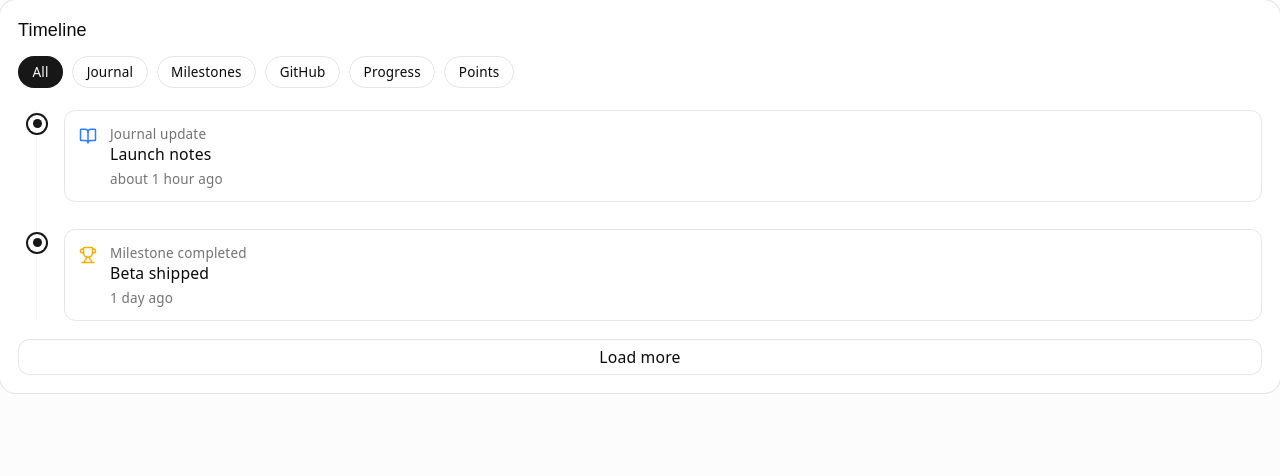
TimelineTab › filters by event family and loads more timeline events
Expected: the text "Launch notes" is shown, [110,143,212,165]
Click the button "Milestones" at (206, 72), box [157,56,256,88]
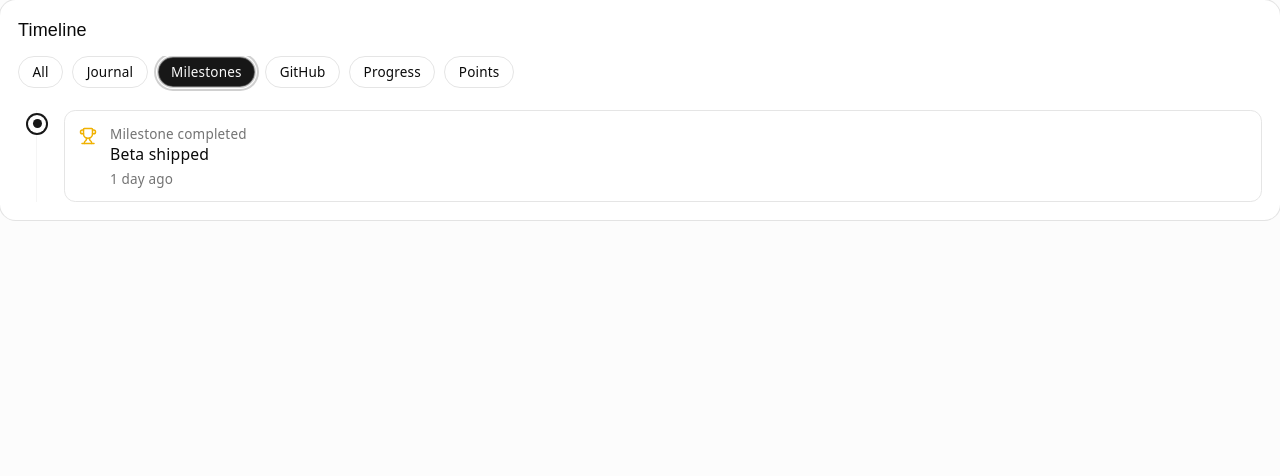
Expected: the text "Beta shipped" is shown, [110,143,209,165]
Now the text "Launch notes" is gone
Click the button "All" at (41, 72), box [18,56,63,88]
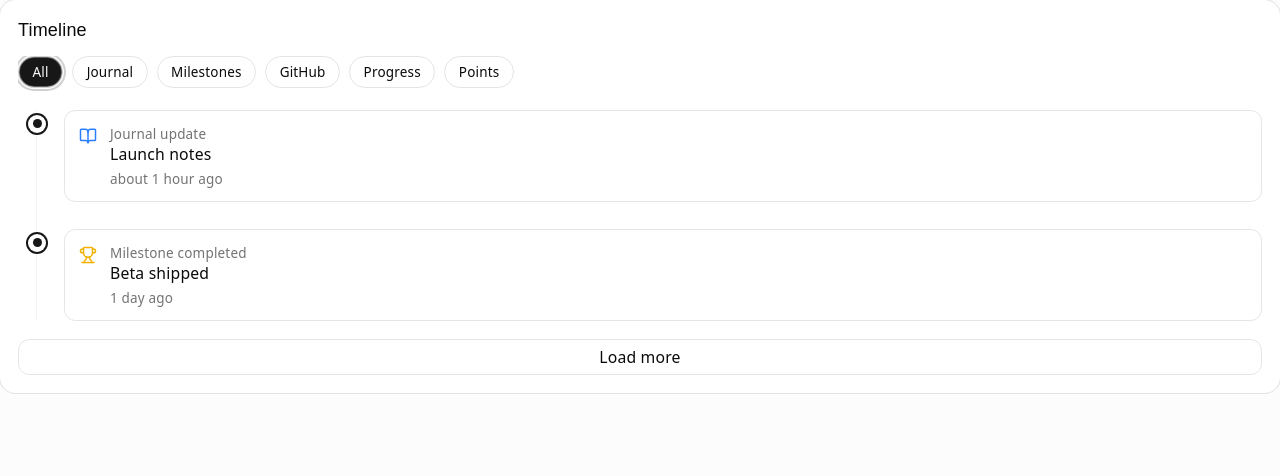
Now the text "Launch notes" is shown, box [110,143,212,165]
Click the button "Load more" at (640, 357), box [18,339,1262,375]
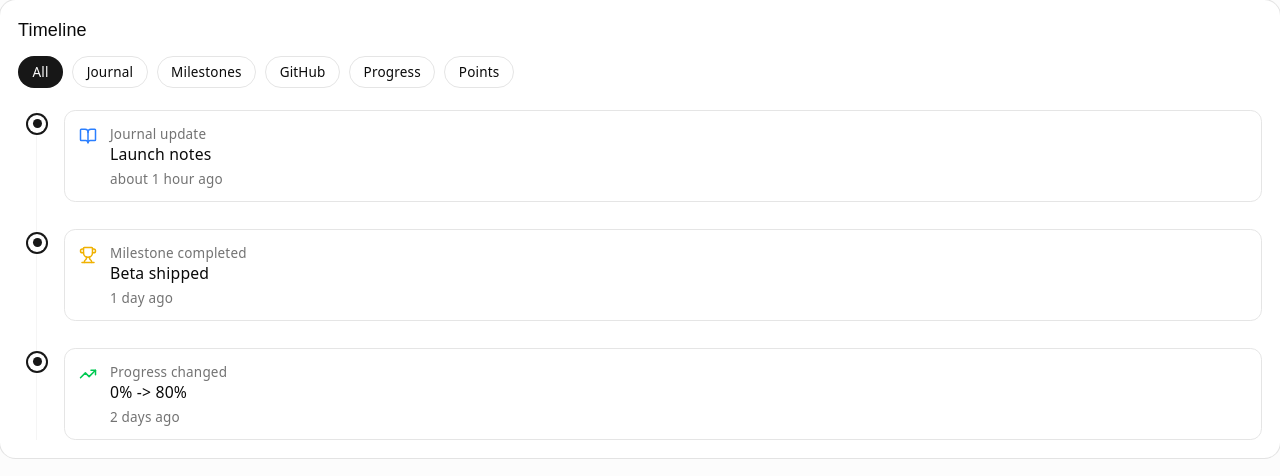
Now the text "0% -> 80%" is shown, box [110,381,187,403]
